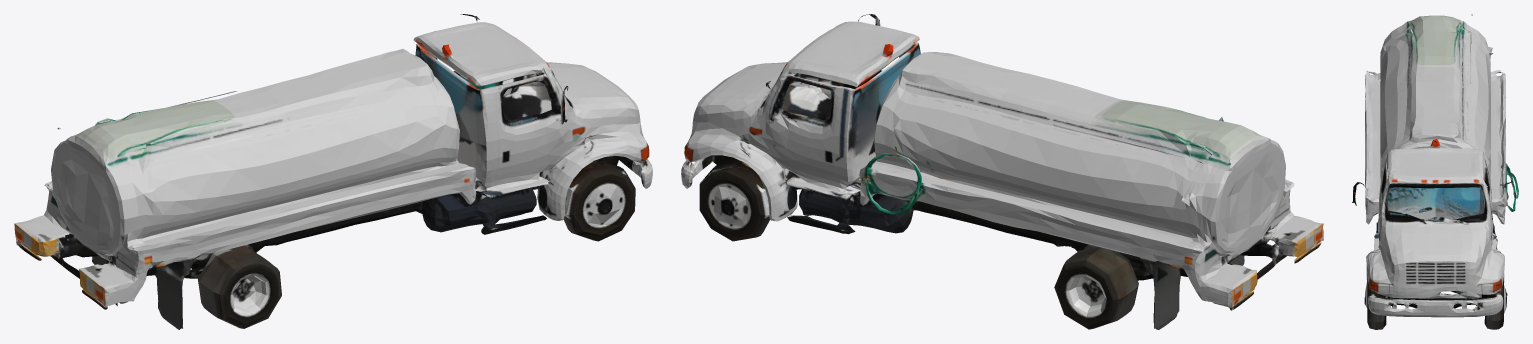
The model's file is camion.fbx.
3 renders of one model, left to right at view 1: azimuth 30°, elevation 25°; view 2: azimuth 150°, elevation 25°; view 3: azimuth 270°, elevation 25°, orthographic. The views are drawn at different scales.
Visible parts, largest first — view 1: tripo_node_d18bd9ce-15fa-424b-81bb-5c668a55b316; view 2: tripo_node_d18bd9ce-15fa-424b-81bb-5c668a55b316; view 3: tripo_node_d18bd9ce-15fa-424b-81bb-5c668a55b316.
Boxes of the visible parts, x1,y1,x2,y2 form: tripo_node_d18bd9ce-15fa-424b-81bb-5c668a55b316: (14, 14, 652, 329); tripo_node_d18bd9ce-15fa-424b-81bb-5c668a55b316: (681, 14, 1323, 329); tripo_node_d18bd9ce-15fa-424b-81bb-5c668a55b316: (1352, 14, 1518, 329).
Bounding box in the file's own units: 99.96 × 32.93 × 34.13.
